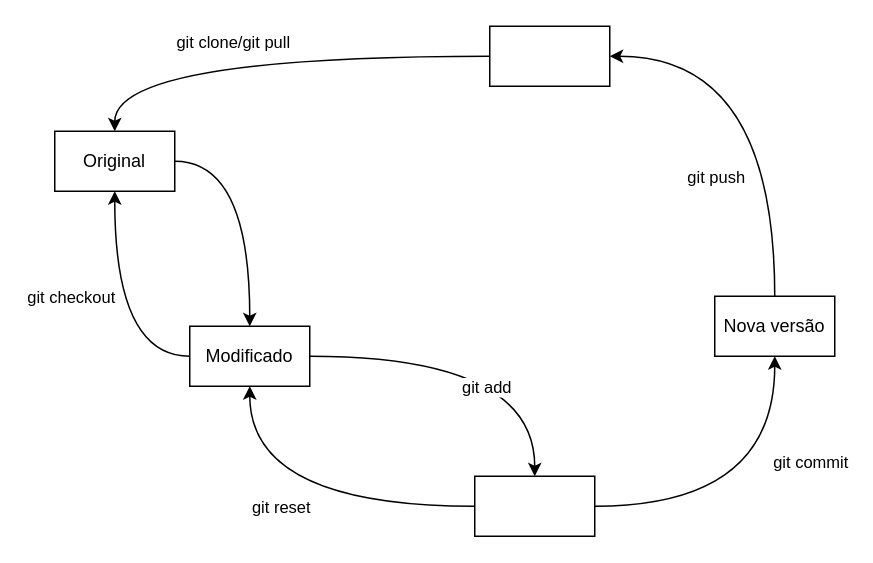
This 873x563 diagram has some shape labels left out. Each missing label, with the centre of its shape:
"Em preparação" belongs at (534,505).
"Online" belongs at (549,55).
